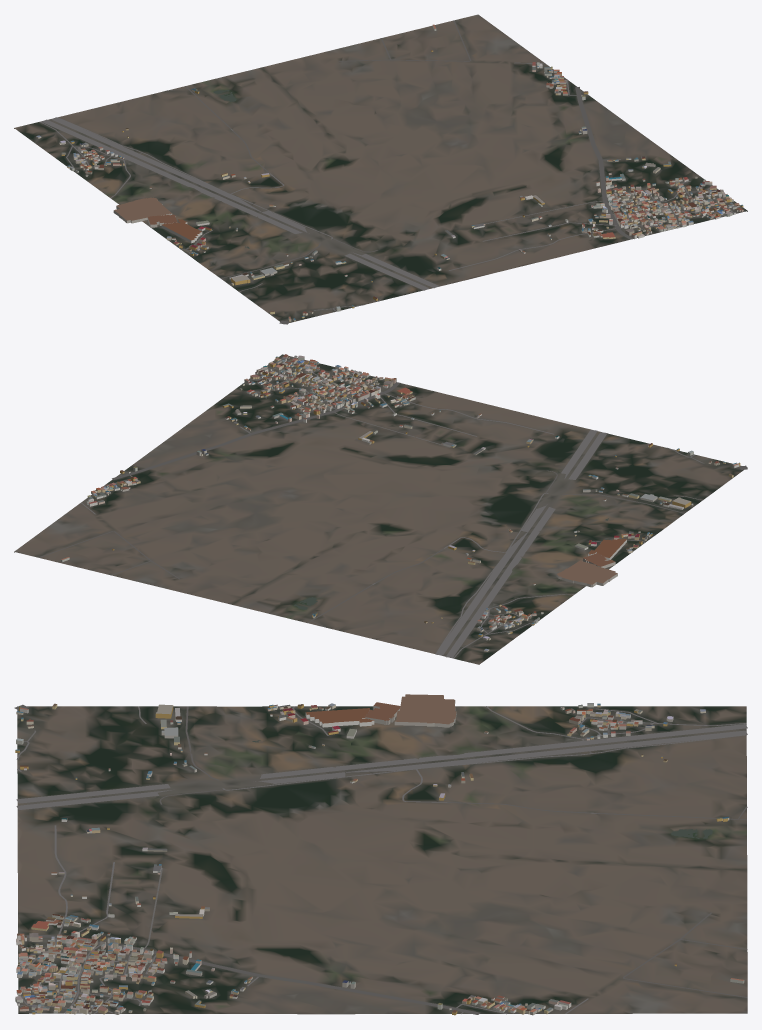
The picture shows the model from 3 angles, top to bottom: view 1: azimuth 30°, elevation 25°; view 2: azimuth 150°, elevation 25°; view 3: azimuth 270°, elevation 25°; orthographic projection. The views are drawn at different scales.
Parts seen in each view (by area): view 1: ground, buildings, roads; view 2: ground, buildings, roads; view 3: ground, buildings, roads.
Boxes of the visible parts, box(x1,y1,x2,y2) form: ground: box(14, 14, 747, 324); buildings: box(36, 24, 743, 321); roads: box(39, 20, 736, 324); ground: box(14, 354, 747, 664); buildings: box(61, 354, 740, 651); roads: box(38, 357, 747, 658); ground: box(17, 706, 747, 1014); buildings: box(15, 694, 744, 1015); roads: box(14, 704, 747, 1014).
Size of the model in its own units: 1443 by 14.7 by 1411.
